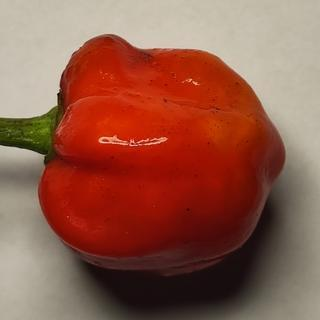Grade-B: (33, 28, 287, 278)
